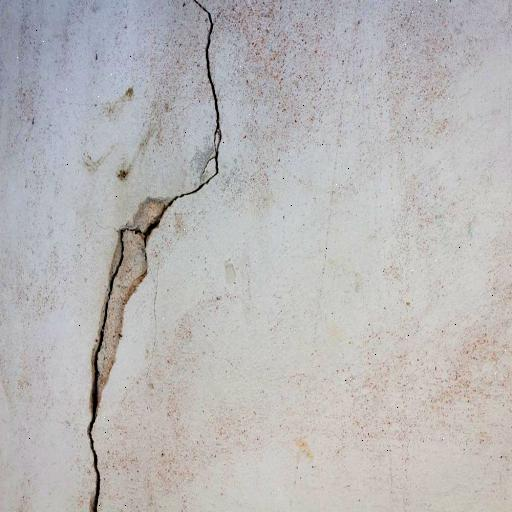spalling: (83, 3, 227, 508)
